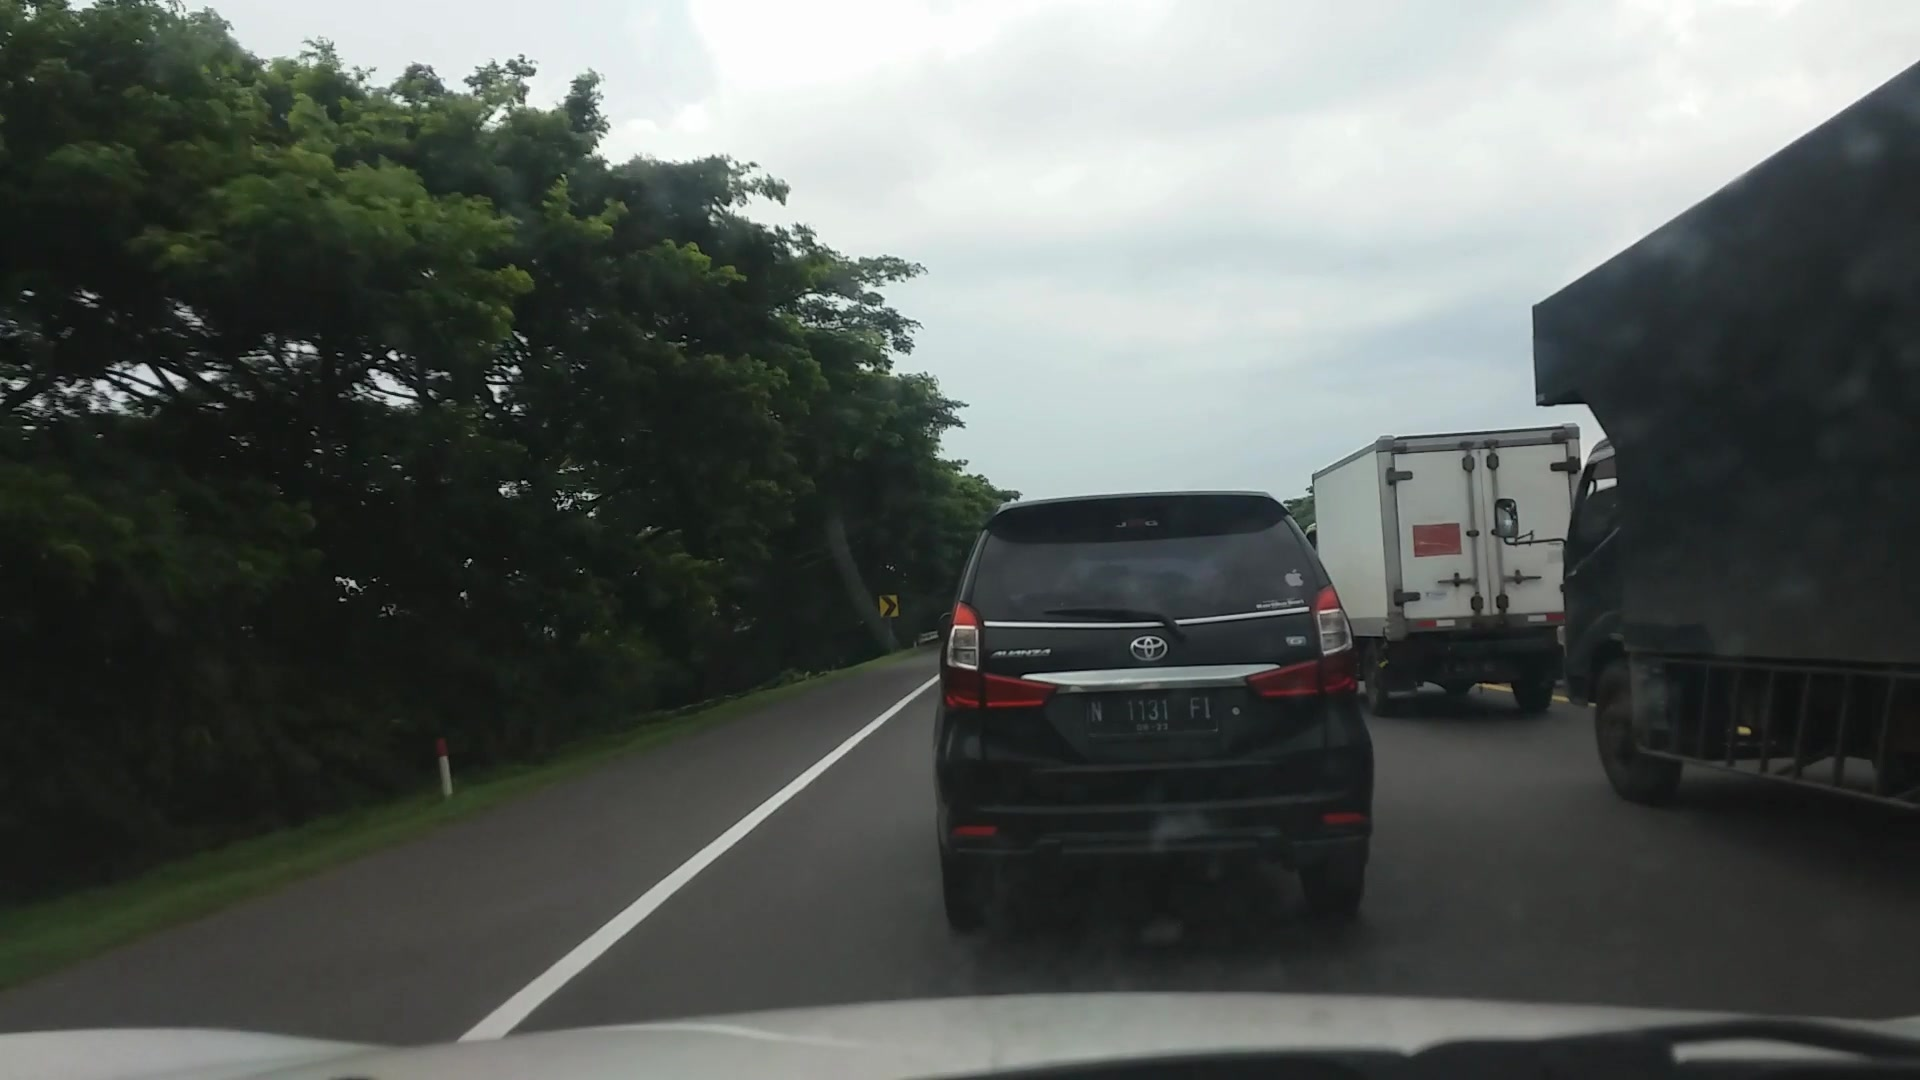plate_positive: (1085, 690, 1217, 735)
